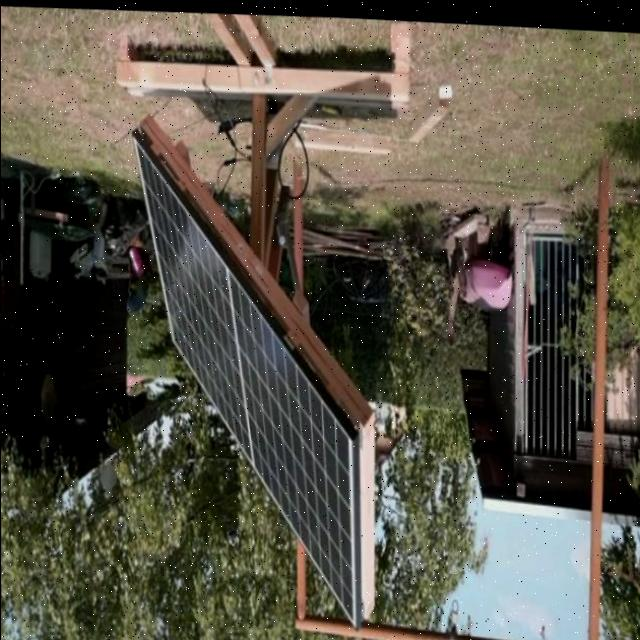Normal Solar Panel: (127, 132, 360, 620)
